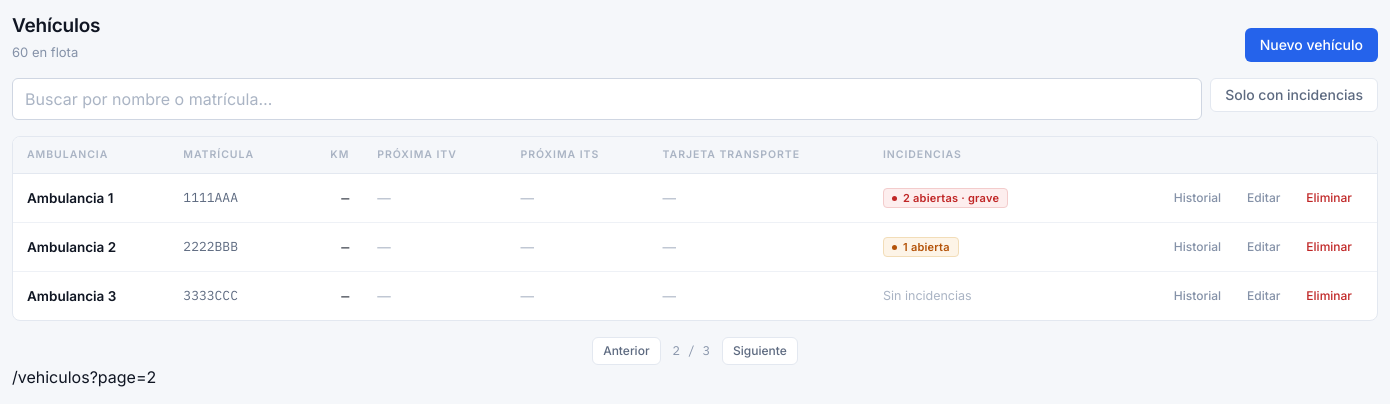
it: VehicleList · lo que se estaba mirando sobrevive a ir a una ficha › pasar de página la apunta; buscar vuelve a la 1
Expected: the table is shown, [13,137,1377,320]
Click the button "Siguiente" at (760,351), box [722,337,798,365]
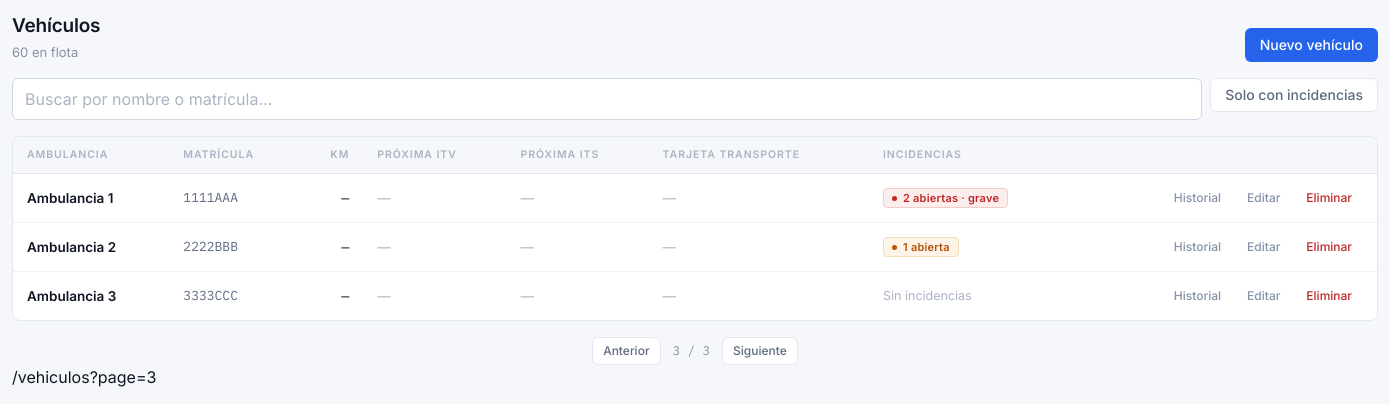
Now the text with test id "donde" reads "/vehiculos?page=3", box [12,367,156,387]
Type "ab" into the search field at (607,99), box [12,78,1202,120]
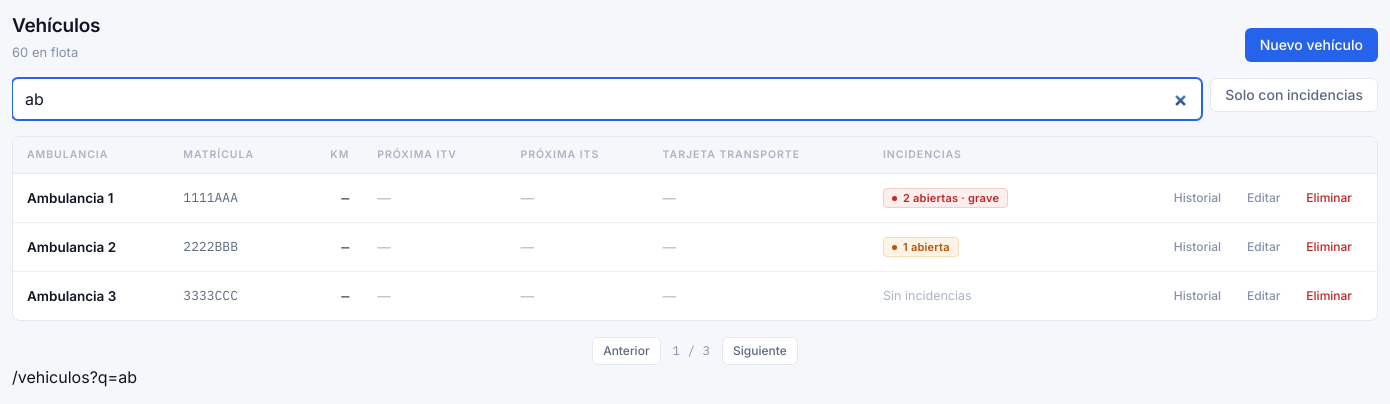
Now the text with test id "donde" reads "/vehiculos?q=ab", box [12,367,137,387]
